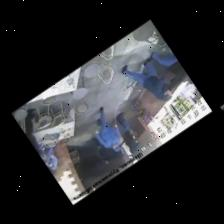person: (121, 58, 171, 100), (150, 52, 192, 87), (95, 107, 119, 151), (116, 112, 137, 143), (44, 147, 56, 173), (178, 83, 195, 99)
